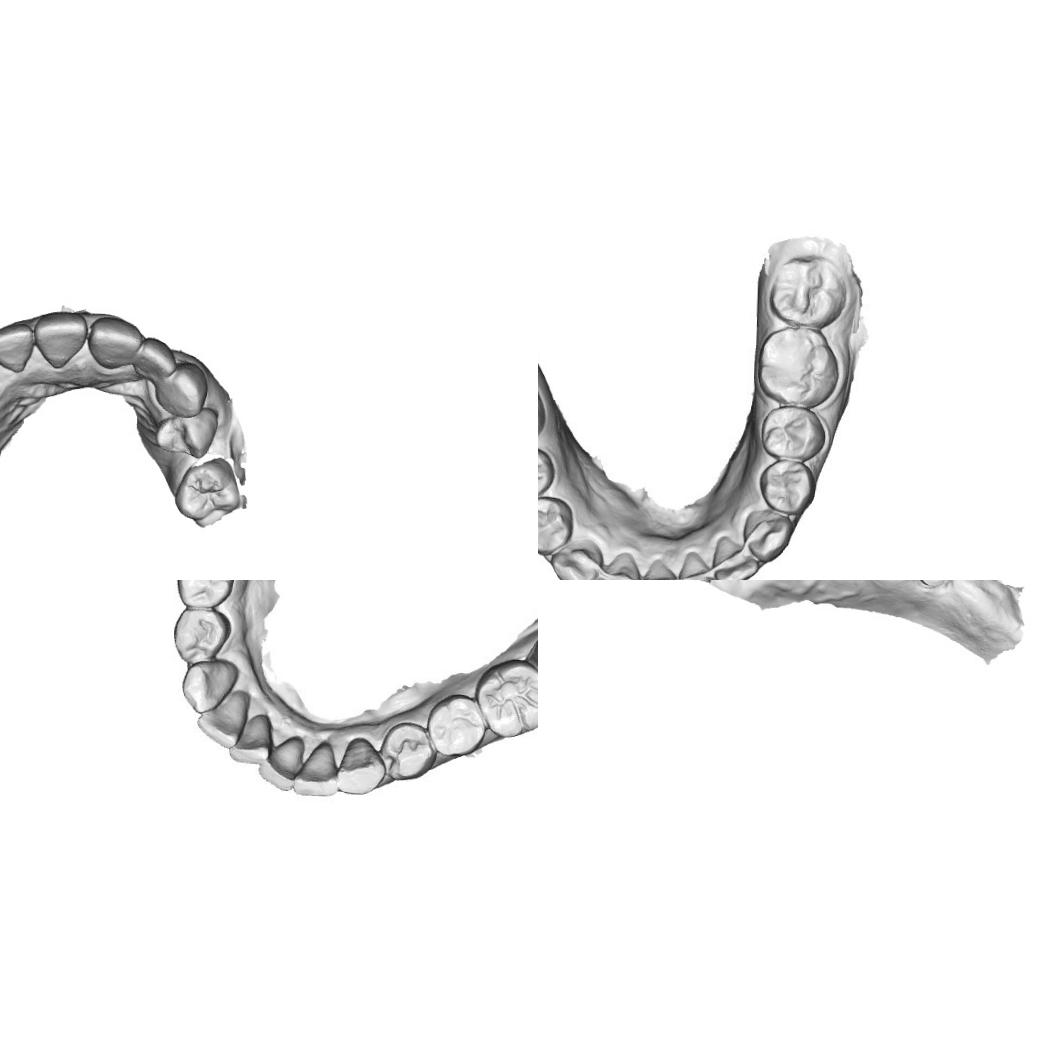canine: (150, 359, 210, 418), (178, 656, 236, 714), (741, 505, 797, 565), (335, 733, 384, 801), (549, 537, 602, 580)
implant: (916, 580, 951, 588)
incisor: (32, 308, 90, 372), (86, 313, 144, 372), (198, 691, 250, 748), (229, 714, 277, 764), (713, 535, 764, 580), (132, 334, 180, 380), (0, 319, 38, 376), (260, 736, 304, 785), (297, 742, 338, 794), (589, 550, 637, 580), (676, 550, 719, 580), (632, 558, 684, 580)
molar: (756, 324, 842, 409), (769, 252, 847, 329), (472, 655, 538, 742), (172, 455, 240, 527)
premolar: (380, 716, 436, 785), (756, 458, 818, 520), (760, 406, 826, 462), (152, 406, 218, 460), (431, 696, 482, 762), (179, 604, 232, 664), (538, 496, 571, 558), (538, 447, 559, 504), (179, 580, 232, 601)
